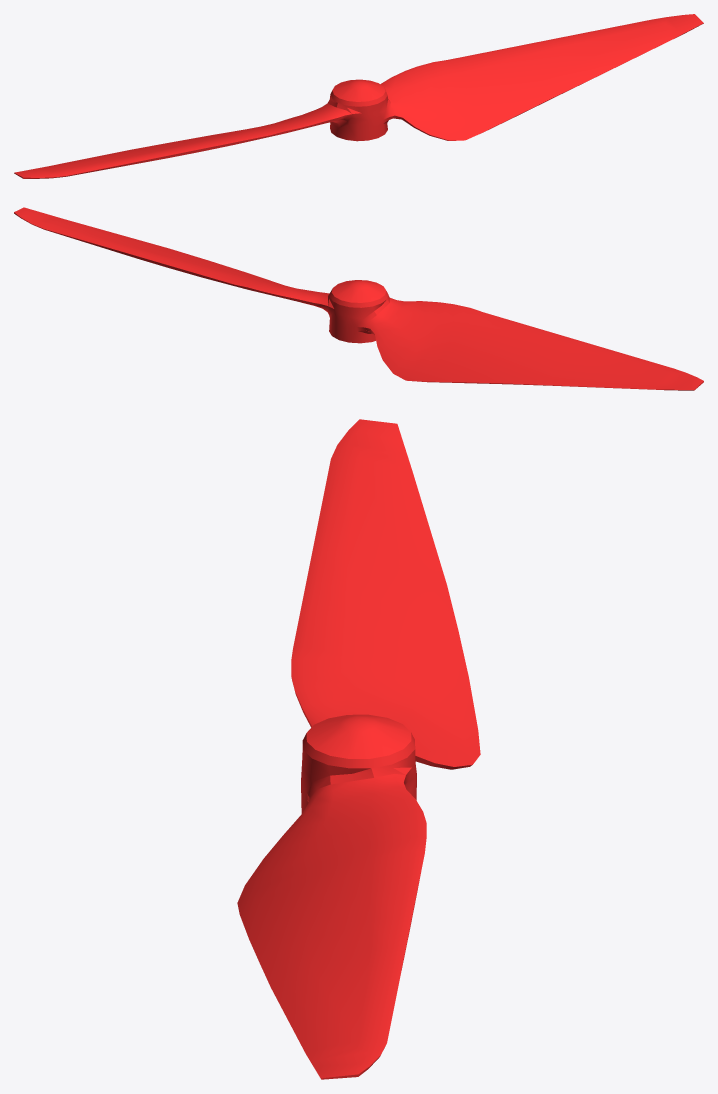
The model's file is propeller_fl.dae.
3 renders of one model, top to bottom at view 1: azimuth 30°, elevation 25°; view 2: azimuth 150°, elevation 25°; view 3: azimuth 270°, elevation 25°, orthographic. The views are drawn at different scales.
Visible parts, largest first — view 1: Aile_AV_G; view 2: Aile_AV_G; view 3: Aile_AV_G.
Boxes of the visible parts, x1,y1,x2,y2 form: Aile_AV_G: (14,14,703,178); Aile_AV_G: (14,207,703,390); Aile_AV_G: (237,419,480,1079).
Bounding box in the file's own units: 0.2792 × 0.0438 × 0.0217.
